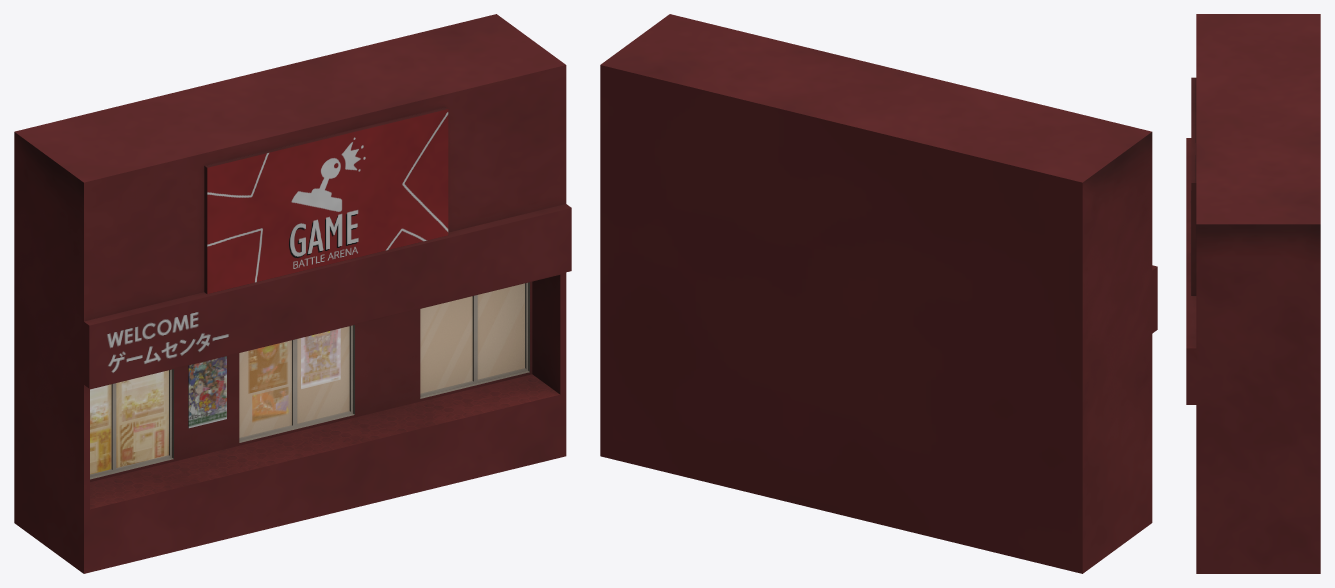
File: arcade.dae
The picture shows the model from 3 angles, left to right: view 1: azimuth 30°, elevation 25°; view 2: azimuth 150°, elevation 25°; view 3: azimuth 270°, elevation 25°; orthographic projection. The views are drawn at different scales.
Parts seen in each view (by area): view 1: arcade; view 2: arcade; view 3: arcade.
Part boxes in pixels (box(x1,y1,x2,y2)): arcade: box(14, 14, 571, 573); arcade: box(600, 14, 1157, 573); arcade: box(1186, 14, 1320, 573).
Size of the model in its own units: 8 by 6.2 by 2.16.
